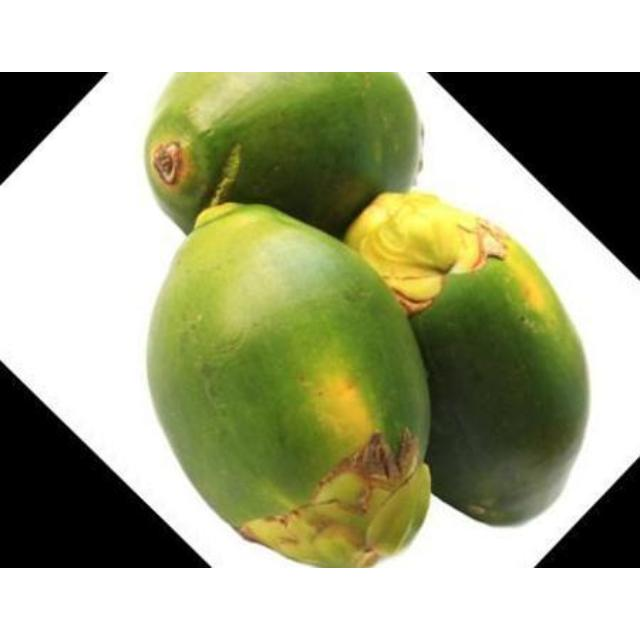good: (144, 200, 431, 567), (360, 193, 593, 530), (144, 72, 421, 241)
